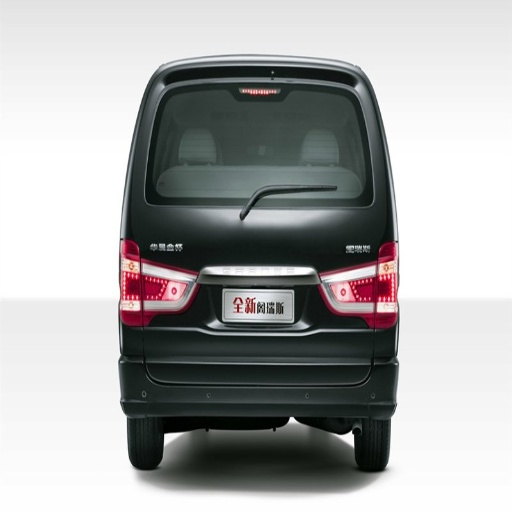back_bumper: (119, 315, 398, 422)
back_glass: (143, 130, 359, 202)
back_left_door: (319, 73, 365, 146)
tailgate: (215, 167, 361, 210)
trunk: (147, 197, 382, 378)
